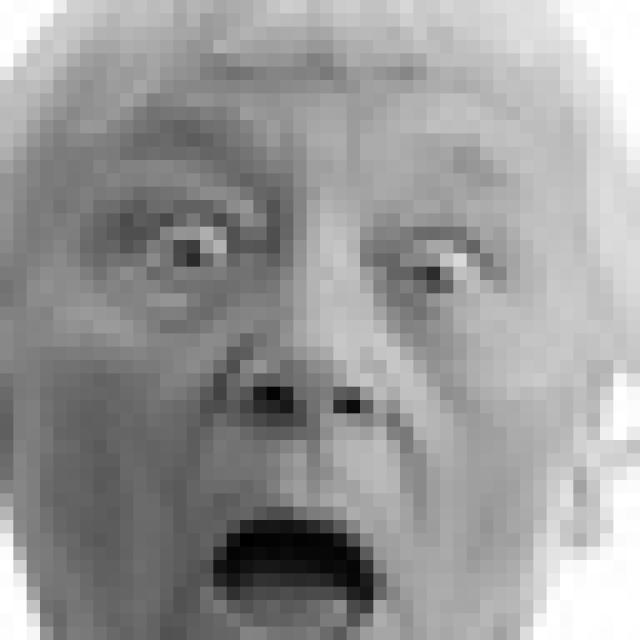surprise: (86, 110, 531, 640)
